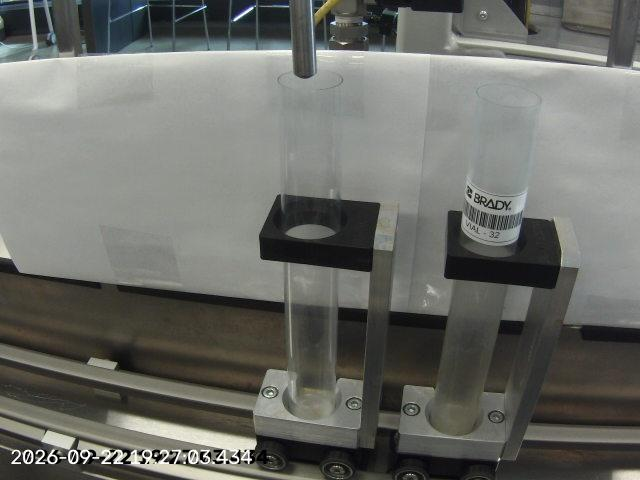vial: (417, 65, 541, 442), (270, 65, 359, 422)
